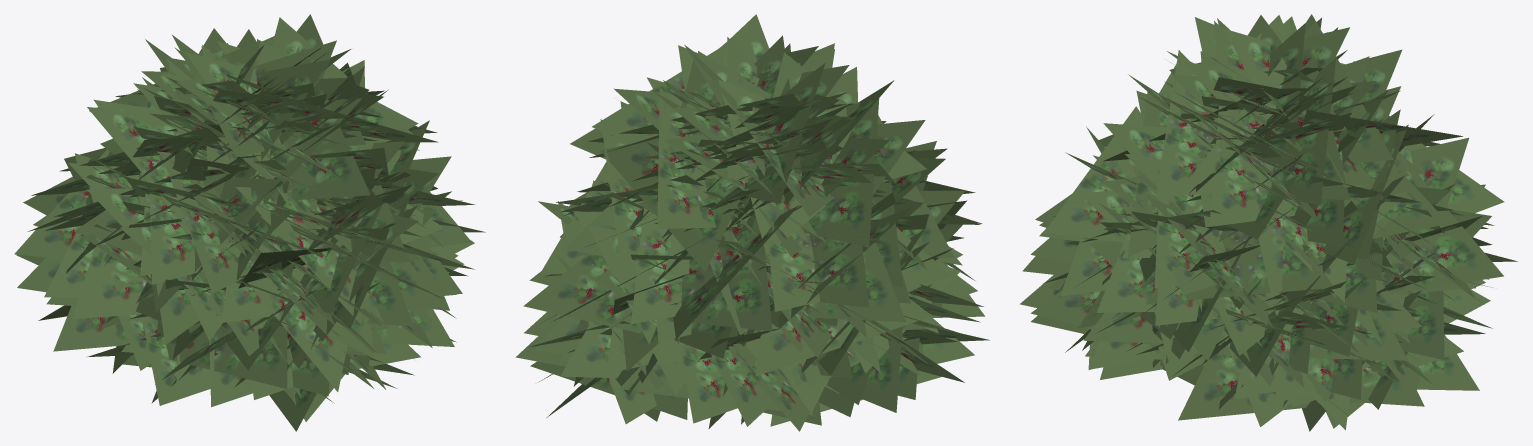
Rendered from Rhamnus_Alaternus_Autumn_Young.glb.
3 renders of one model, left to right at view 1: azimuth 30°, elevation 25°; view 2: azimuth 150°, elevation 25°; view 3: azimuth 270°, elevation 25°, orthographic. The views are drawn at different scales.
Parts seen in each view (by area): view 1: Rhamnus_Alaternus_Autumn_Young__LOD3; view 2: Rhamnus_Alaternus_Autumn_Young__LOD3; view 3: Rhamnus_Alaternus_Autumn_Young__LOD3.
Boxes of the visible parts, x1,y1,x2,y2 form: Rhamnus_Alaternus_Autumn_Young__LOD3: (14, 14, 485, 431); Rhamnus_Alaternus_Autumn_Young__LOD3: (515, 14, 989, 431); Rhamnus_Alaternus_Autumn_Young__LOD3: (1020, 14, 1517, 431).
Bounding box in the file's own units: 3.02 × 2.15 × 3.22.
Materials: 2 (2 with a texture image).
